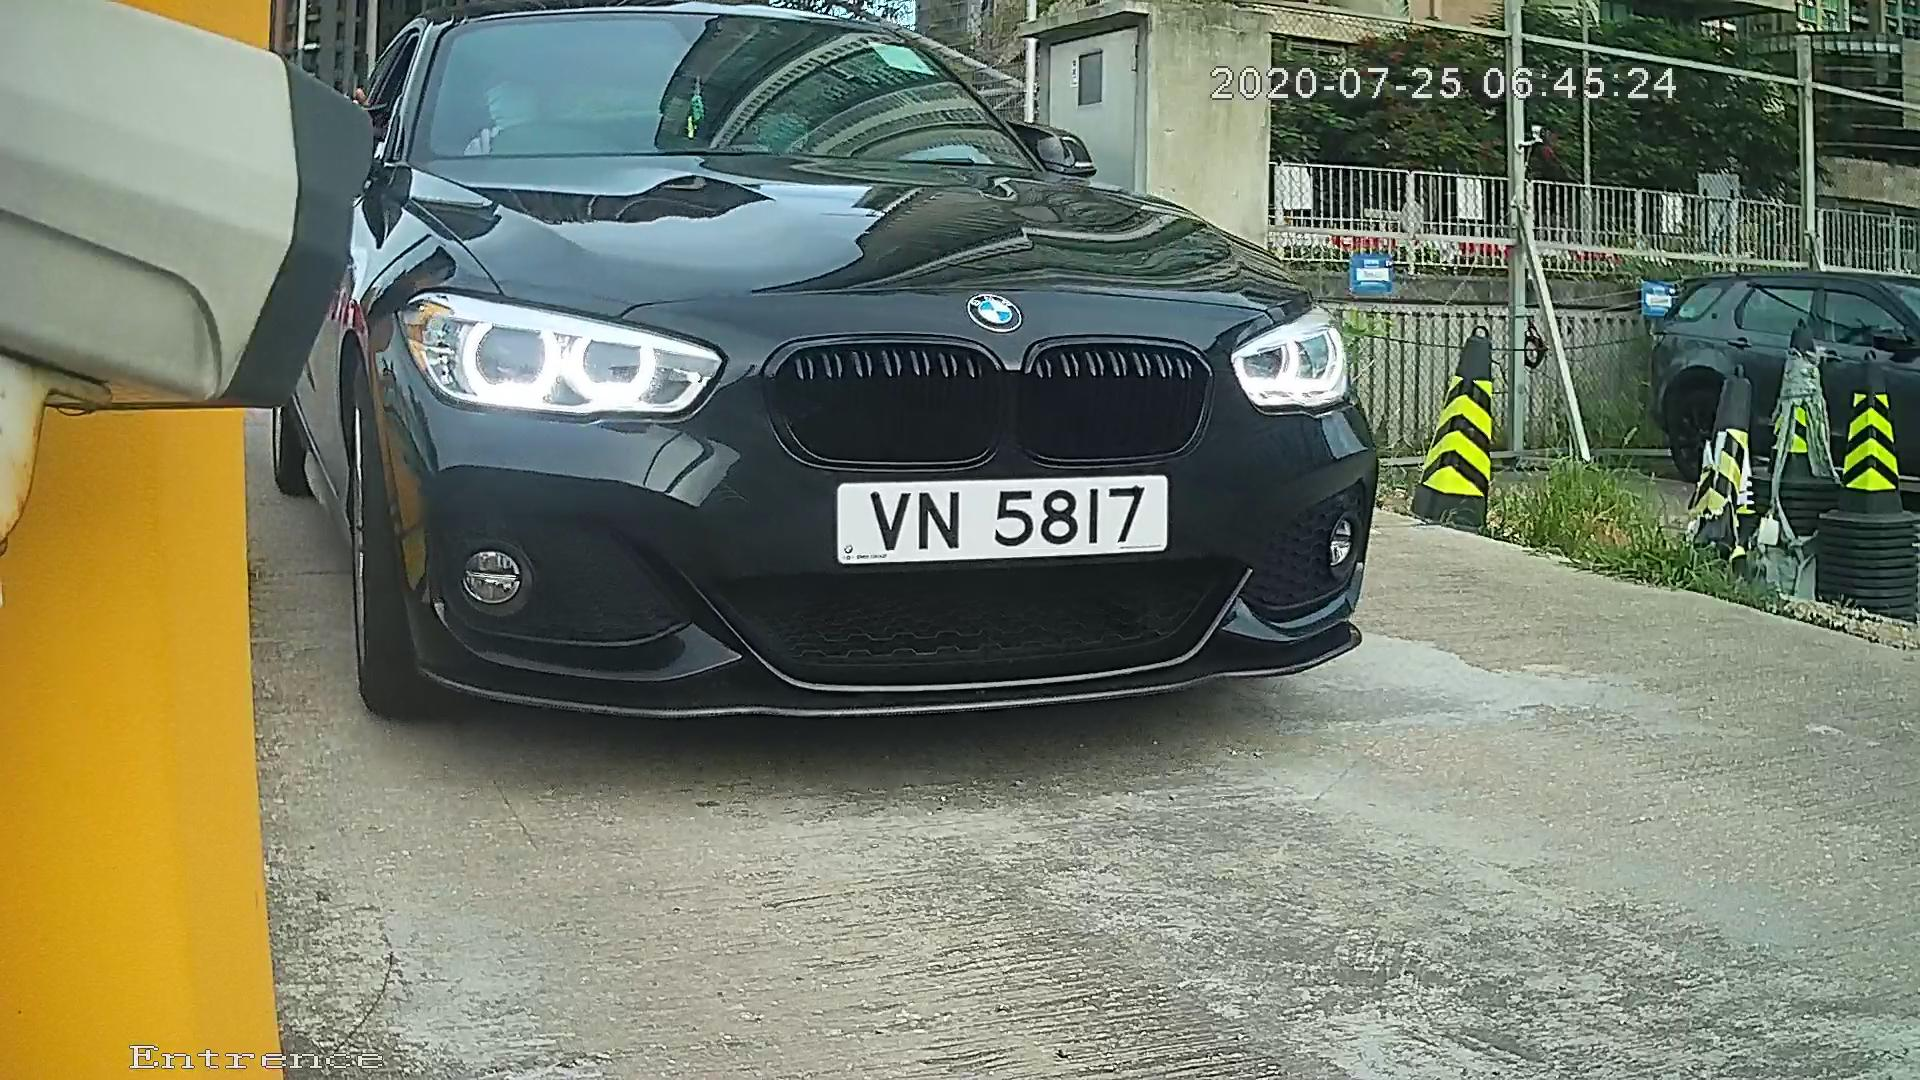License Plate: (798, 463, 1192, 579)
